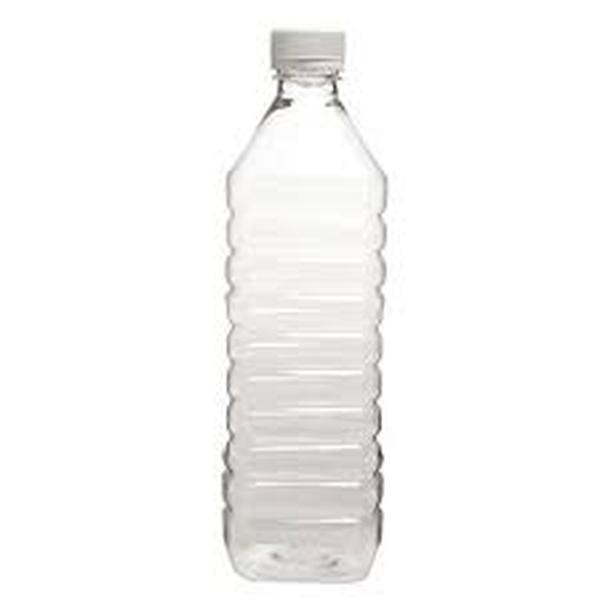tutuma: (191, 10, 407, 592)
